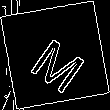M_NE: (21, 20, 89, 90)
